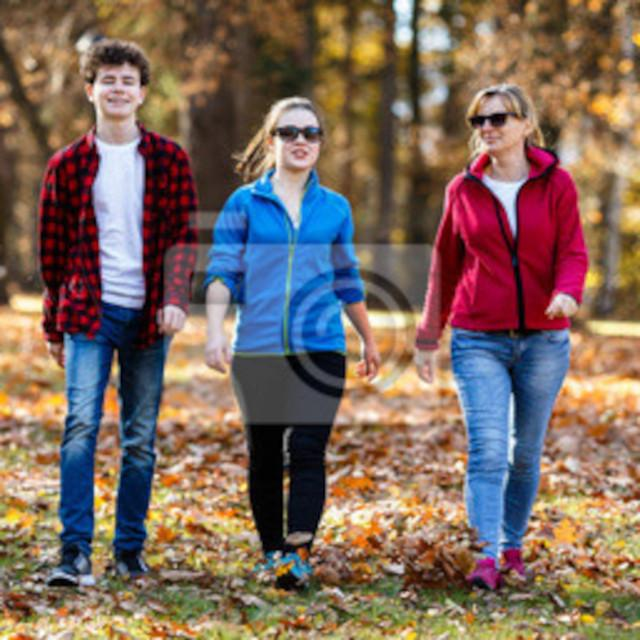kobieta: (429, 84, 587, 588), (212, 92, 360, 590)
mezczyzna: (37, 40, 193, 582)
